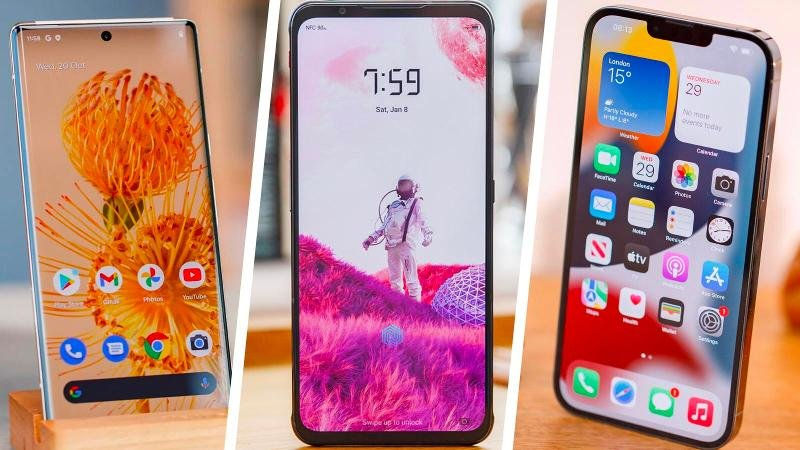phones: (10, 13, 251, 432), (559, 3, 782, 448), (290, 11, 498, 445)
